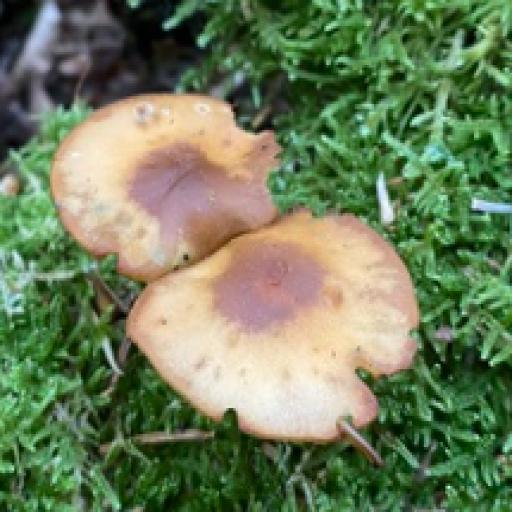Funeral Bell: (52, 93, 419, 438)
